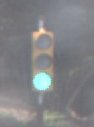Green: (28, 28, 65, 106)
